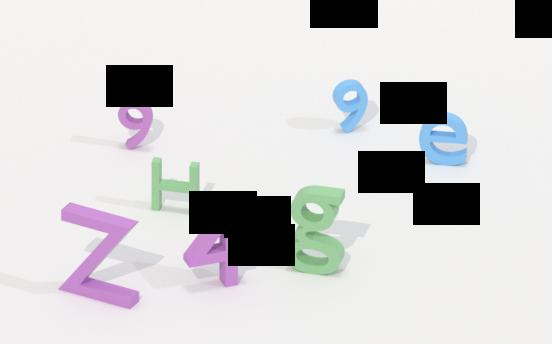4: (181, 192, 248, 290)
9: (329, 74, 370, 137), (116, 93, 154, 153)
H-hoa: (150, 154, 200, 216)
e: (415, 110, 471, 176)
g: (284, 183, 348, 274)
z: (56, 199, 141, 311)
